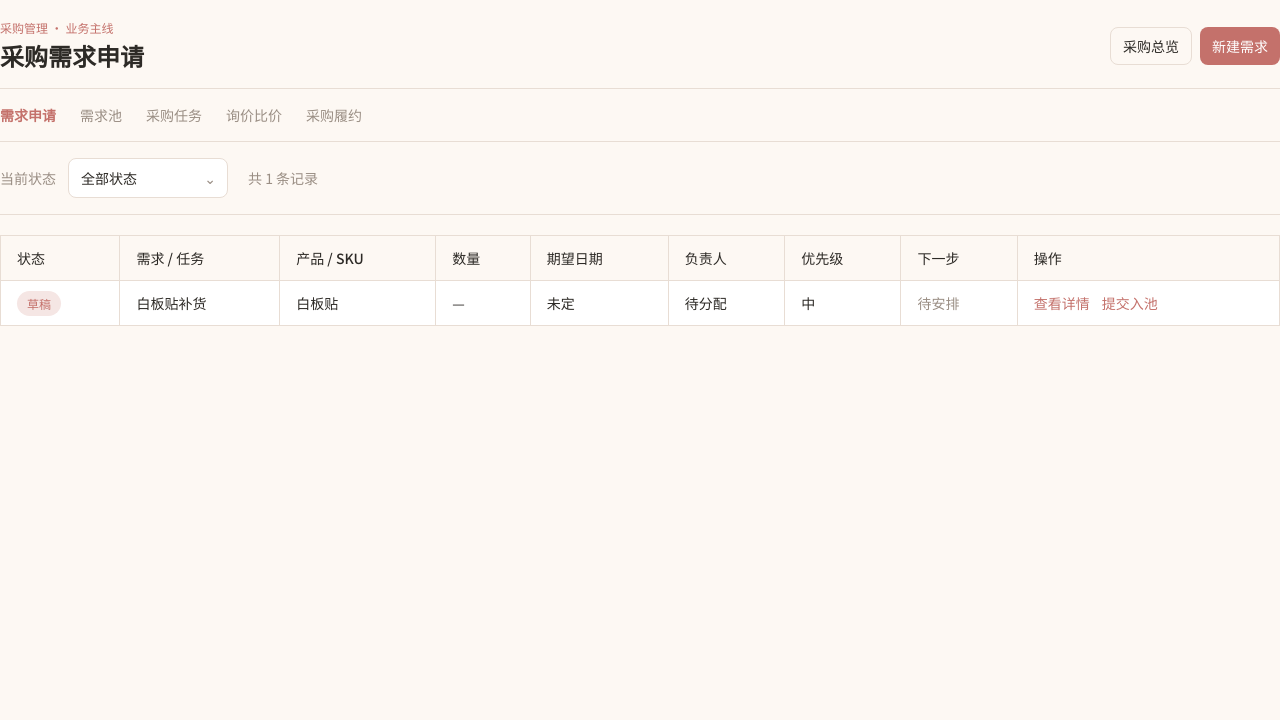
it: opens a read-only procurement dialog before editing and persists changes
Click the button "查看详情": click(1062, 303) [1034,293,1090,313]
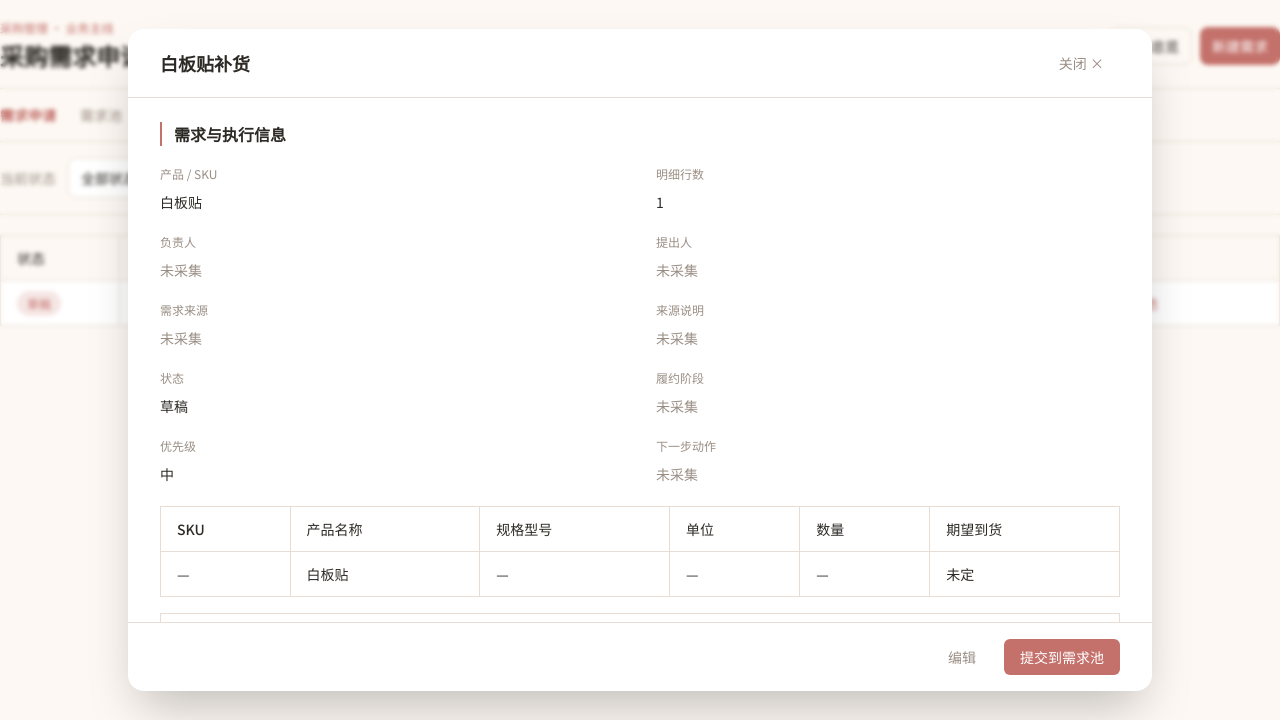
Click the button "编辑": click(962, 657) [932,639,992,675]
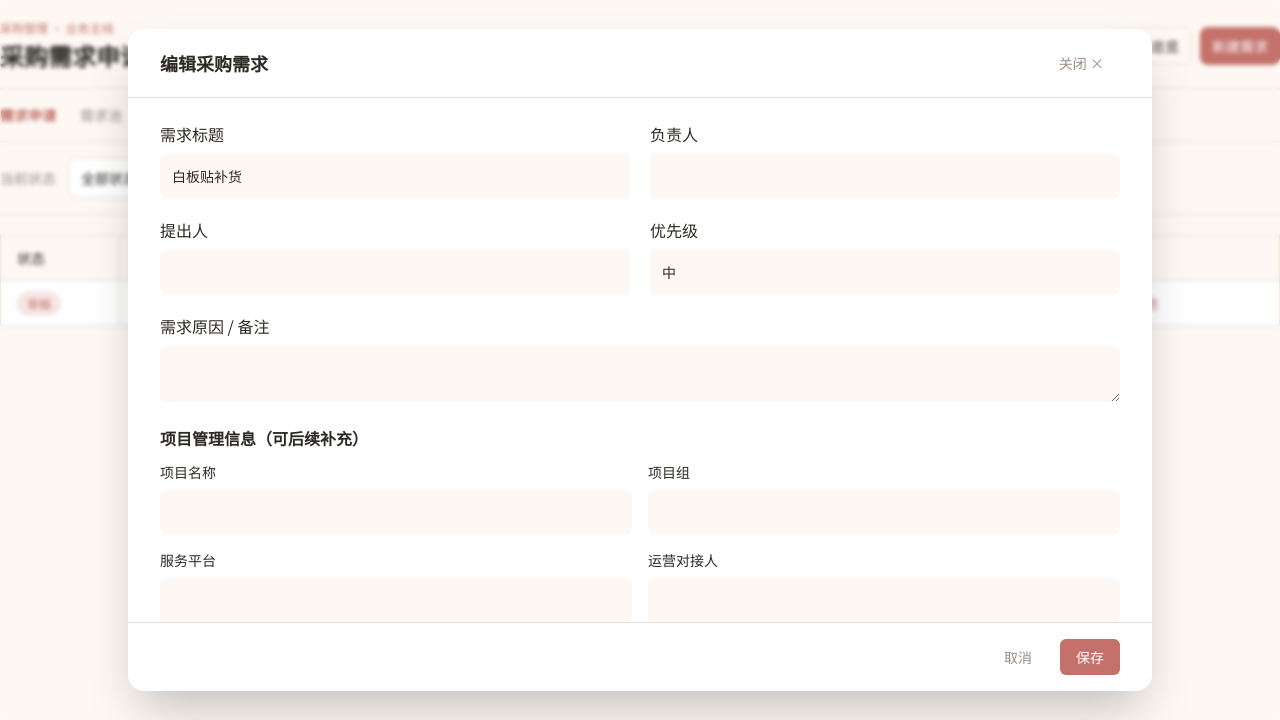
Replace the text in the field labelled "需求标题" with "白板贴补货第二版": (395, 176) [160,154,630,198]
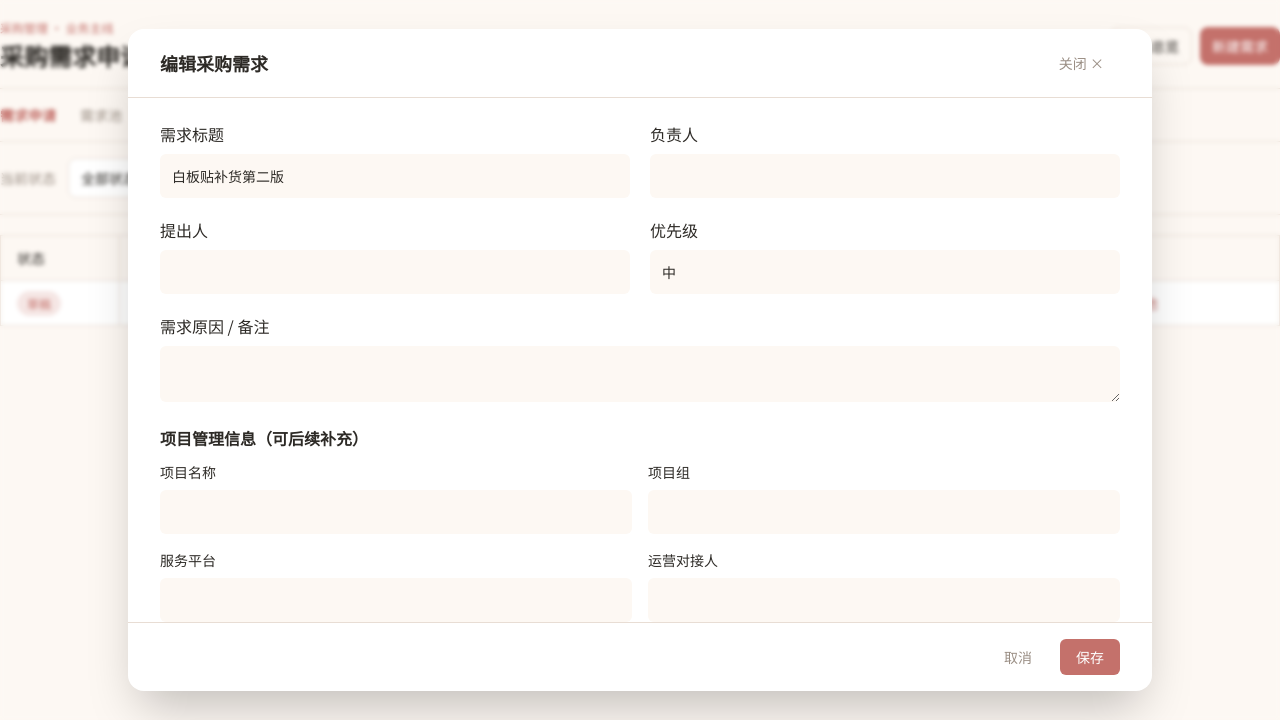
Click the button "保存": click(1090, 657) [1060,639,1120,675]
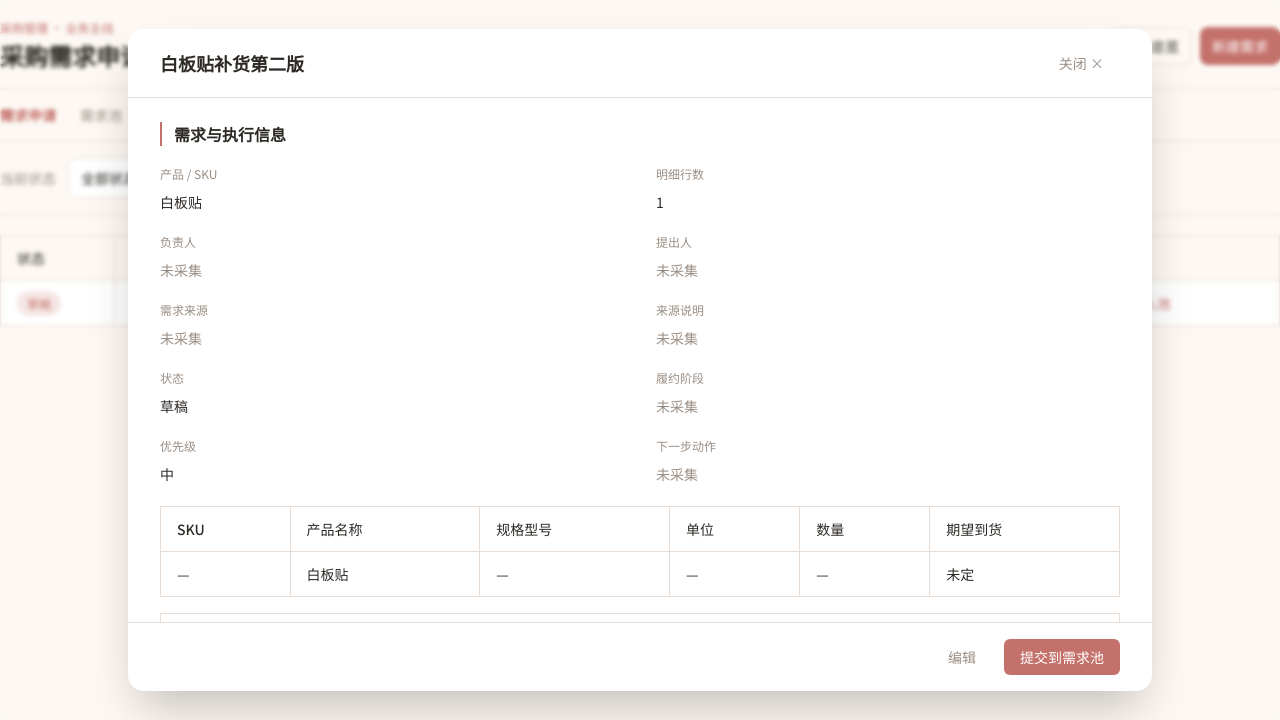
Expected: the text "白板贴补货第二版" is shown, [114,280,328,326]
